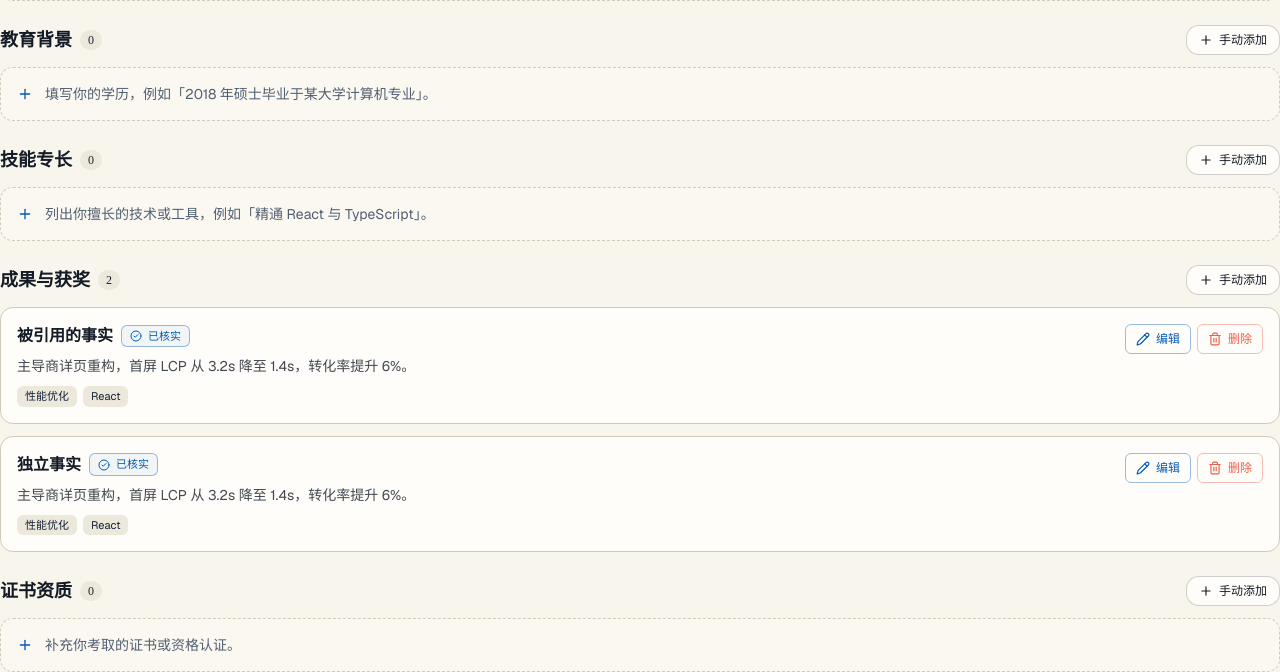
Profile 事实删除入口 › 删除失败时就地展示 i18n 文案，不透出后端 message，事实仍在
(page scrolled)
What coordinates should you click on to do the following:
click the button with aria-label "删除「独立事实」"
I would click on:
 (1230, 468)
Its box is [1197,452,1263,482].
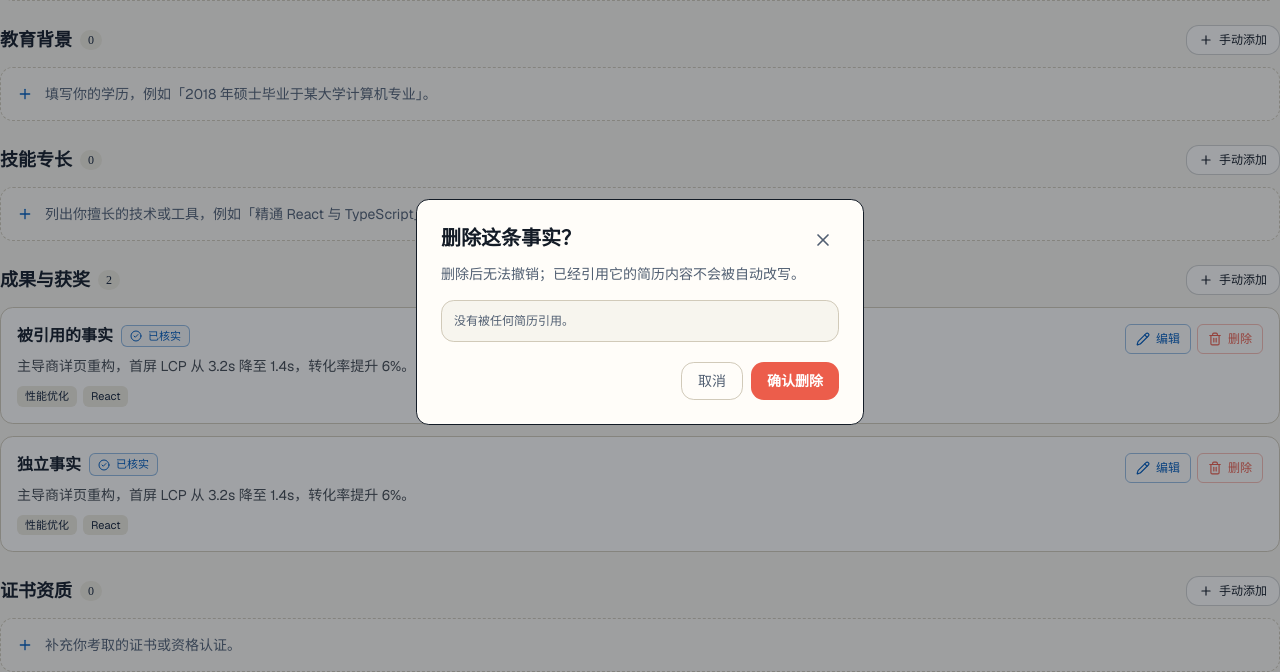
What coordinates should you click on to do the following:
click the button "确认删除"
I would click on:
 (795, 381)
Its box is [751,362,839,400].
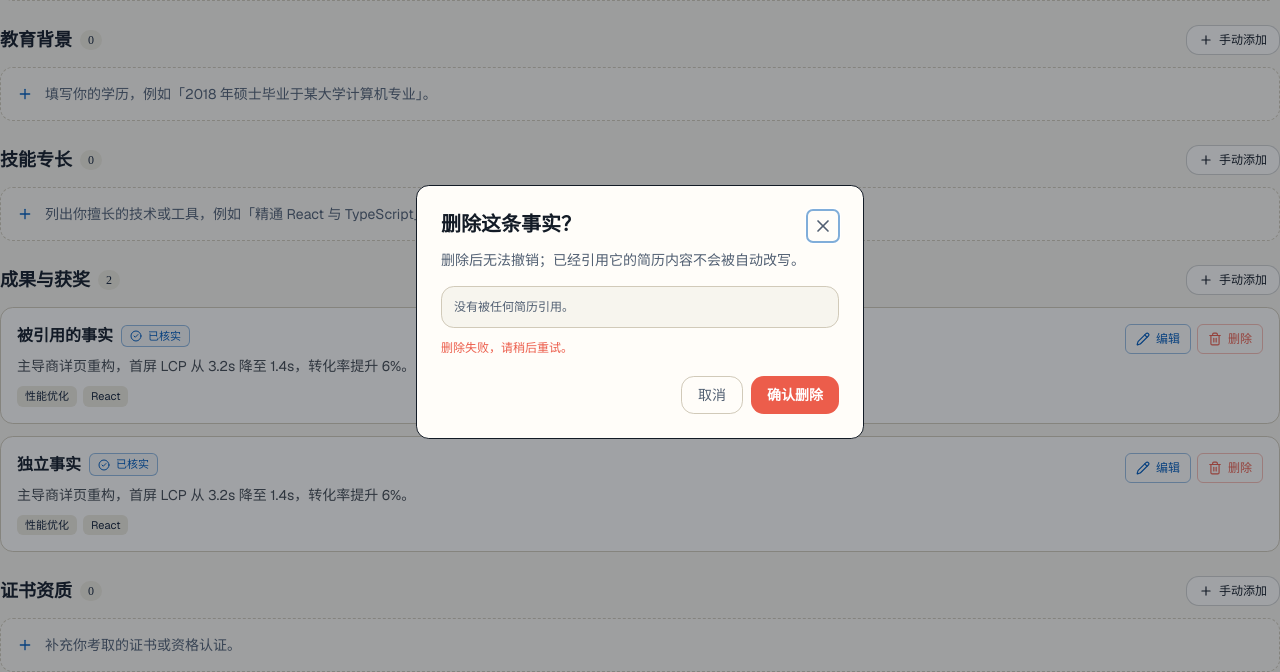
Expected: the heading "独立事实" is shown, [17,452,81,476]
Result: the message reads "删除失败，请稍后重试。" at [441,340,573,356]
